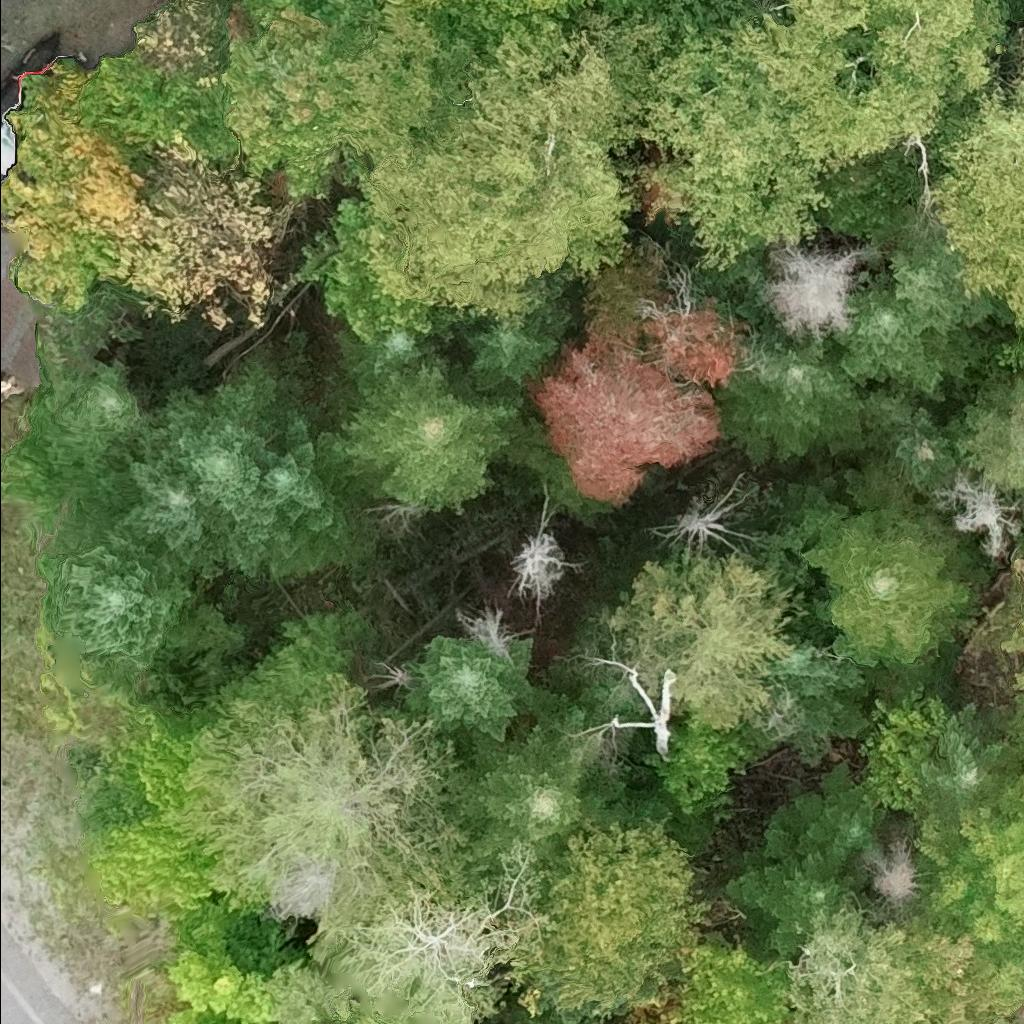crown: (321, 2, 663, 318), (631, 0, 1001, 262), (109, 389, 348, 585), (531, 823, 707, 1023), (604, 557, 798, 727), (225, 8, 374, 197), (802, 510, 974, 665), (936, 46, 1023, 331), (345, 367, 513, 507), (38, 532, 187, 680), (467, 712, 596, 876), (732, 346, 870, 452), (369, 0, 624, 55), (407, 636, 530, 739), (869, 382, 958, 492), (843, 287, 938, 390), (761, 240, 853, 343), (924, 702, 1004, 811), (774, 641, 865, 734), (957, 396, 1023, 518), (764, 854, 847, 950), (935, 459, 1023, 548), (889, 244, 974, 335), (798, 785, 882, 871), (610, 665, 676, 758), (333, 323, 418, 394), (470, 312, 550, 383), (241, 0, 377, 37), (986, 615, 1023, 747), (507, 536, 561, 621), (664, 498, 730, 542), (1020, 396, 1023, 408)
